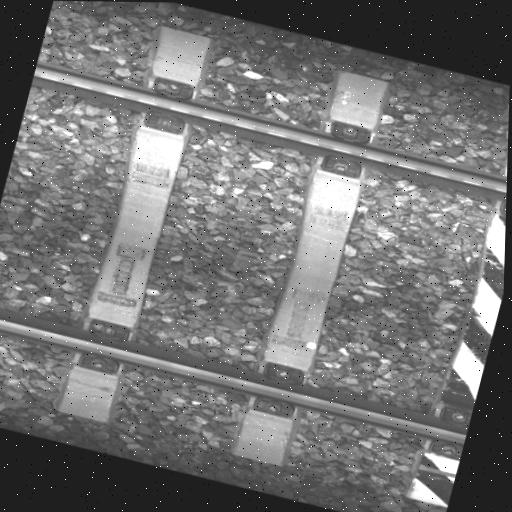clips: (75, 316, 131, 376), (317, 120, 370, 181), (141, 76, 193, 136), (254, 361, 304, 418), (432, 407, 471, 462), (497, 164, 507, 222)
sleepers: (59, 26, 209, 425), (237, 69, 385, 468), (415, 114, 509, 509)
